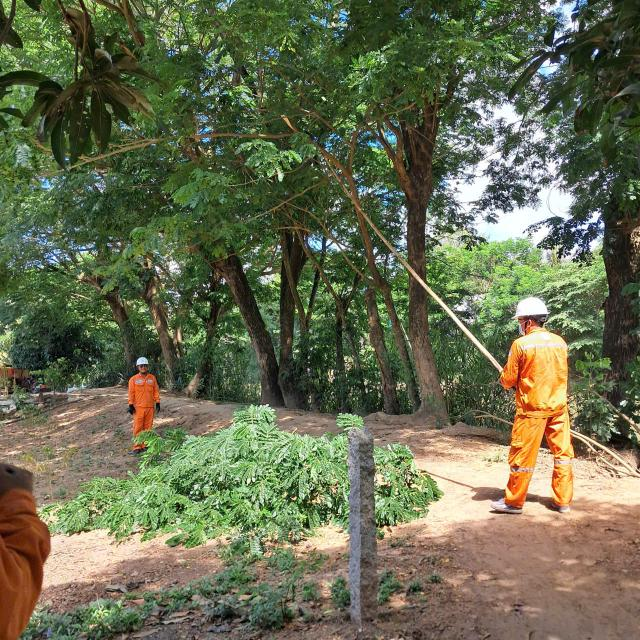gloves: (127, 402, 139, 416), (153, 402, 165, 414)
helmet: (505, 289, 548, 325), (133, 352, 154, 374)
shoes: (490, 492, 522, 518), (547, 494, 572, 516), (132, 448, 140, 457)
